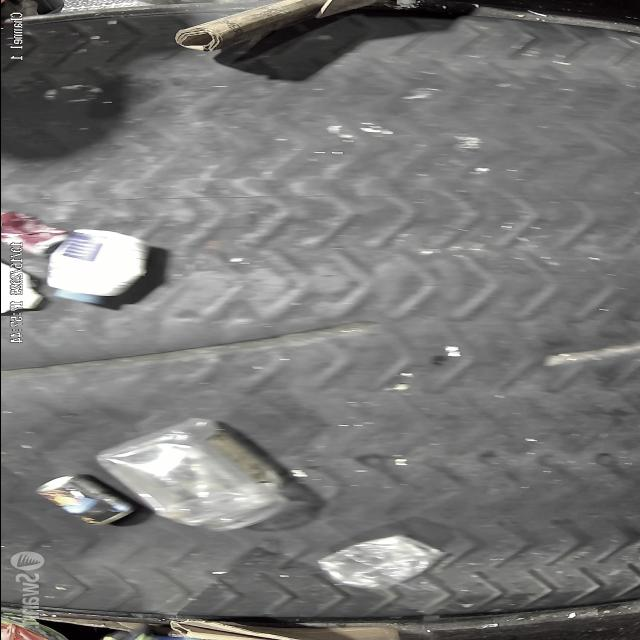can: (35, 476, 135, 526), (0, 212, 69, 256)
milk_jug: (45, 228, 147, 304)
